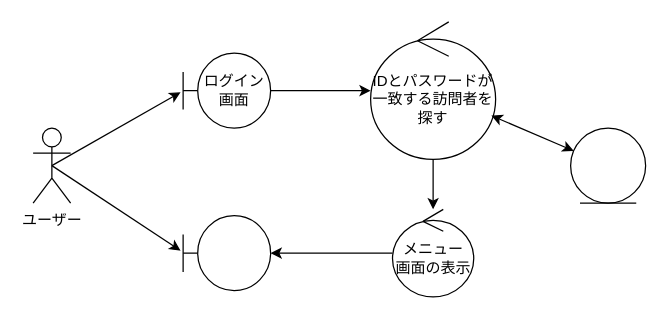
Image size: 668x319. Some labels were removed from this diagram. The centre of each missing label's shape, as x and y in pixels:
メニュー画面: point 226,252
訪問者 情報: point 607,165
